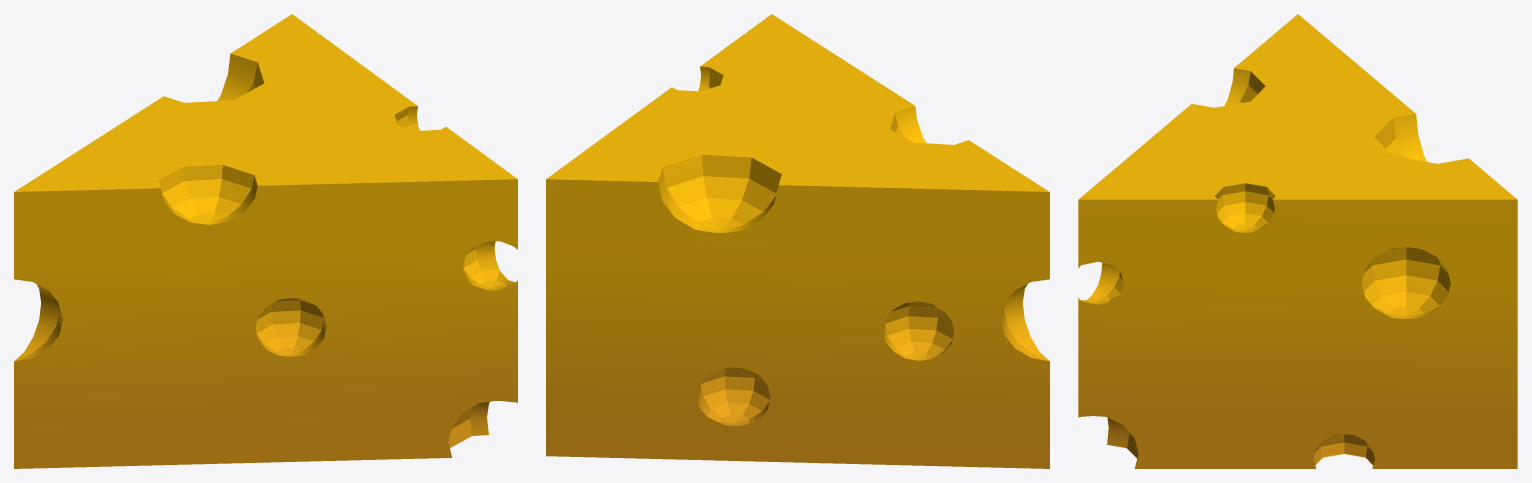
File: Cheese.fbx
3 views of the same model, side by side, from view 1: azimuth 30°, elevation 25°; view 2: azimuth 150°, elevation 25°; view 3: azimuth 270°, elevation 25° (orthographic). The views are drawn at different scales.
Visible parts, largest first — view 1: Cheese; view 2: Cheese; view 3: Cheese.
Boxes of the visible parts, x1,y1,x2,y2 form: Cheese: [14, 14, 517, 468]; Cheese: [546, 14, 1049, 468]; Cheese: [1078, 14, 1517, 468].
Size of the model in its own units: 34.62 by 23.43 by 34.62.
Materials: 1 (1 with a texture image).
